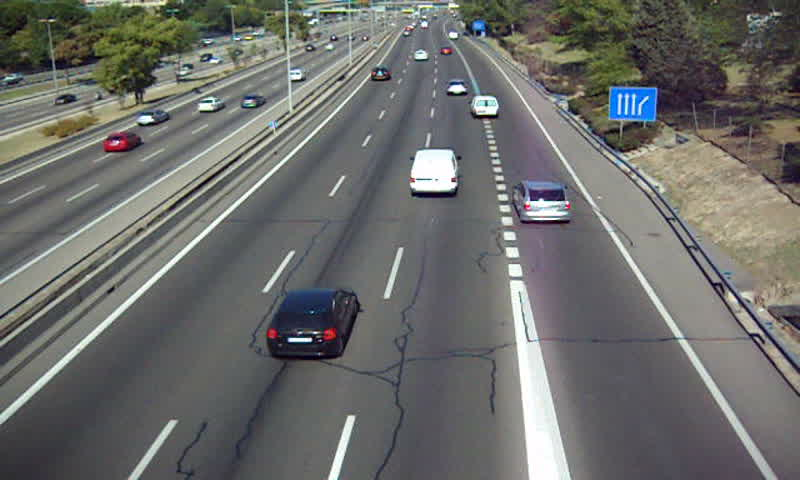car: (266, 288, 354, 359), (511, 182, 572, 225), (445, 80, 470, 98), (371, 66, 391, 82), (411, 48, 430, 60)
van: (409, 149, 459, 197), (470, 96, 499, 118)
